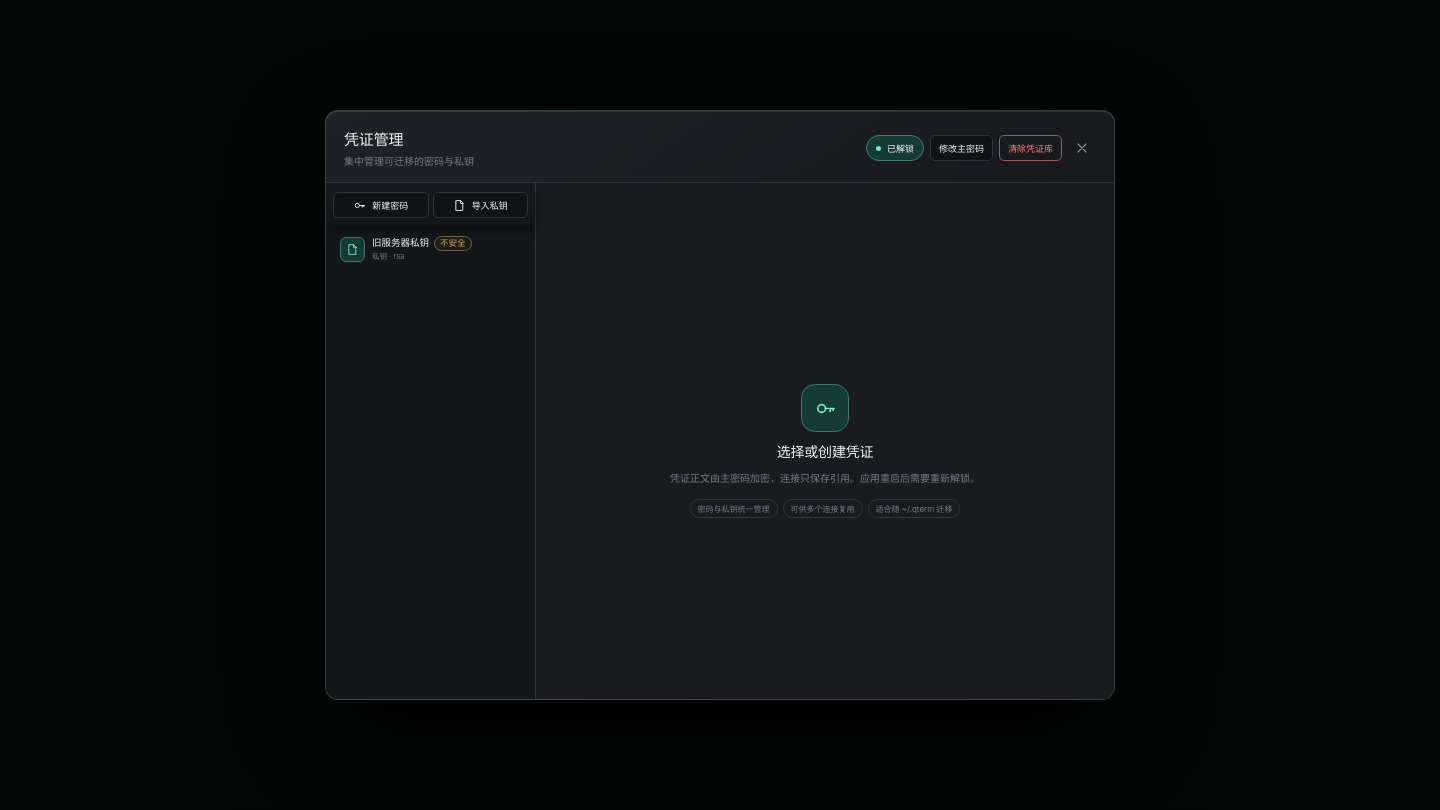
Test case: CredentialDialog › cancels inline rename with Escape and keeps an RSA warning visible while editing
Click the button "旧服务器私钥 不安全 私钥 · rsa" at (430, 249), box [333,230,528,268]
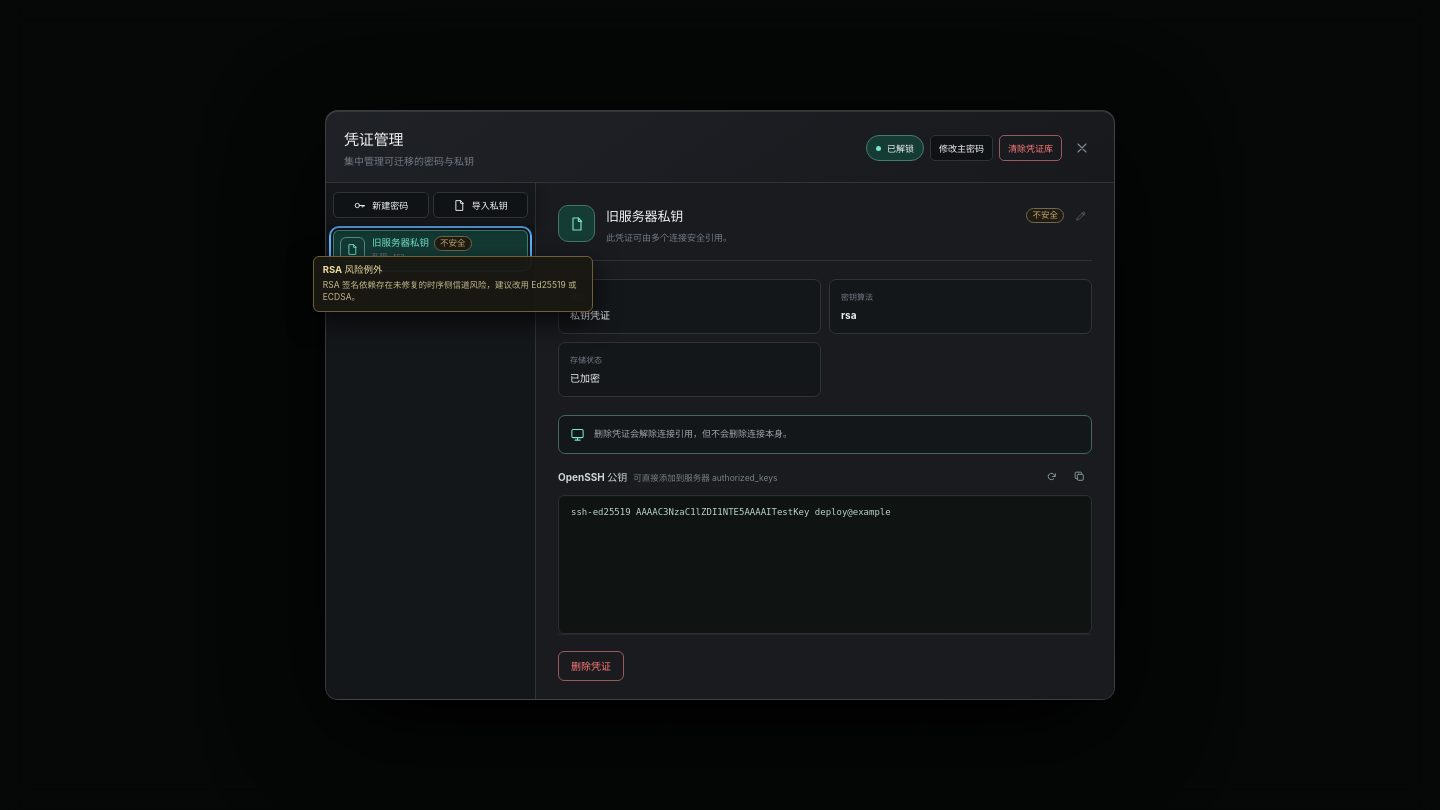
Click the button named "修改凭证名称" at (1080, 216), box [1069,204,1092,227]
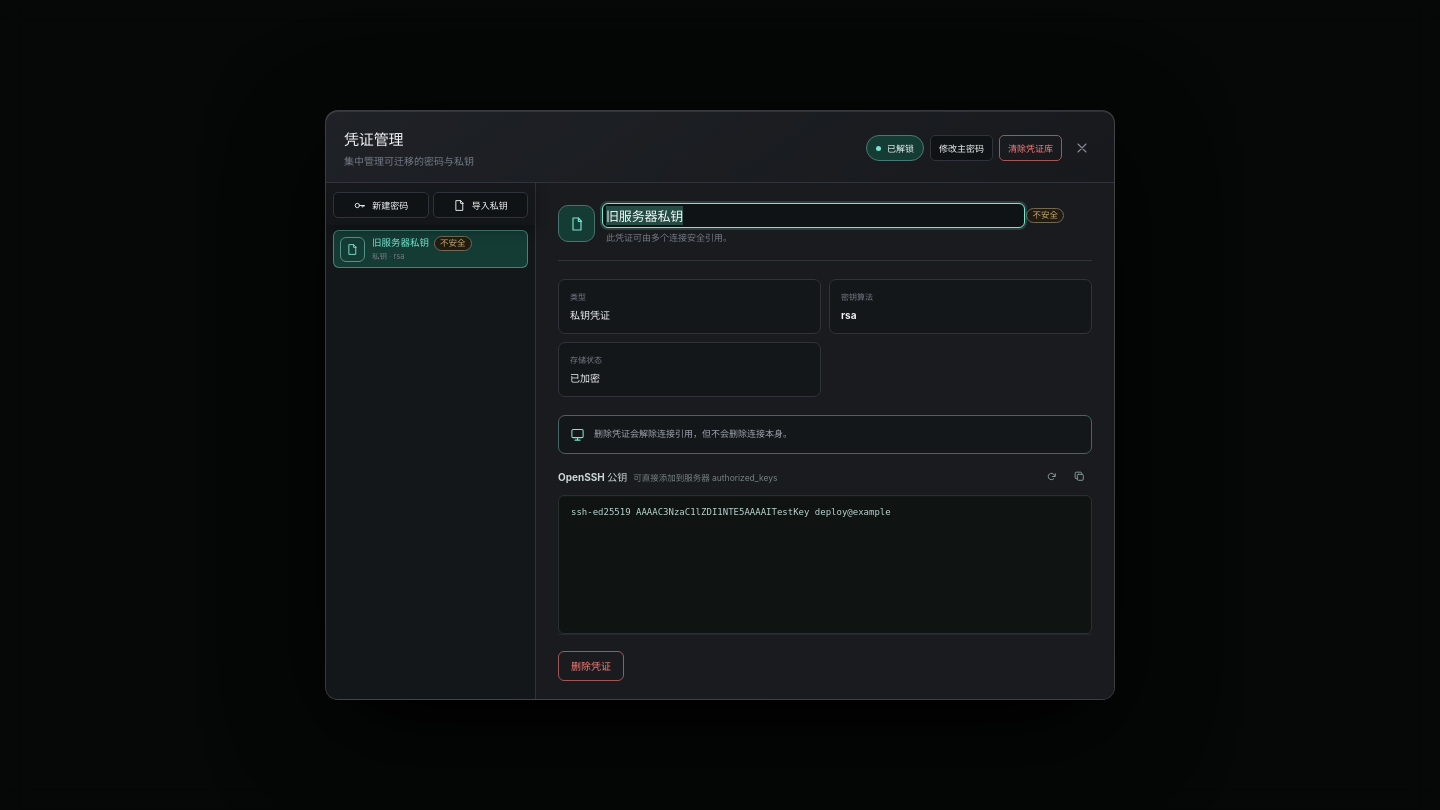
Expected: the element named "凭证名称" reads "不安全", [1032,210,1058,220]
Replace the text in the field named "凭证名称" with "临时名称" at (814, 216), box [606,206,1022,226]
Then press Escape
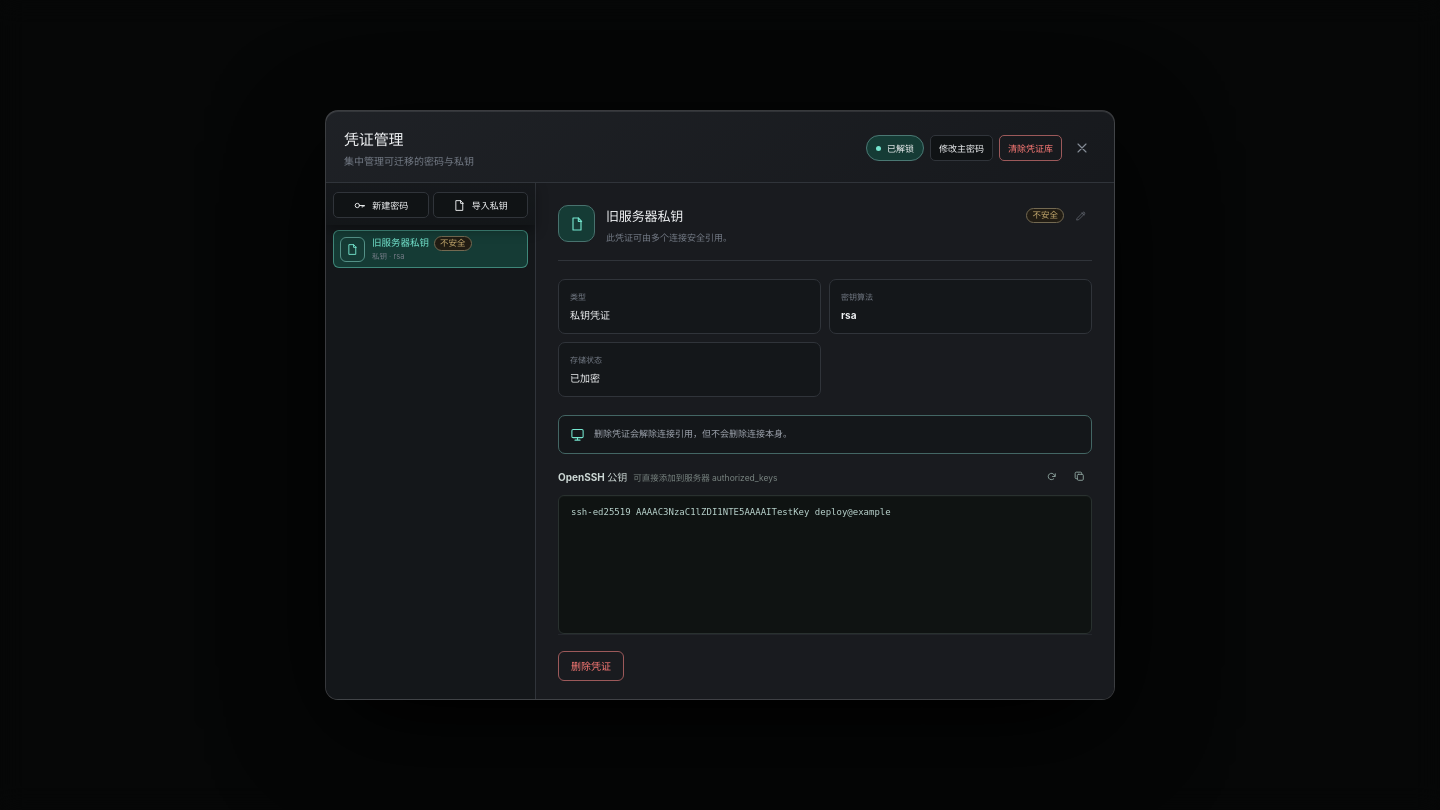
Expected: the field labelled "凭证名称" is gone
Expected: the 1st text "旧服务器私钥" is shown, [606,208,683,224]
